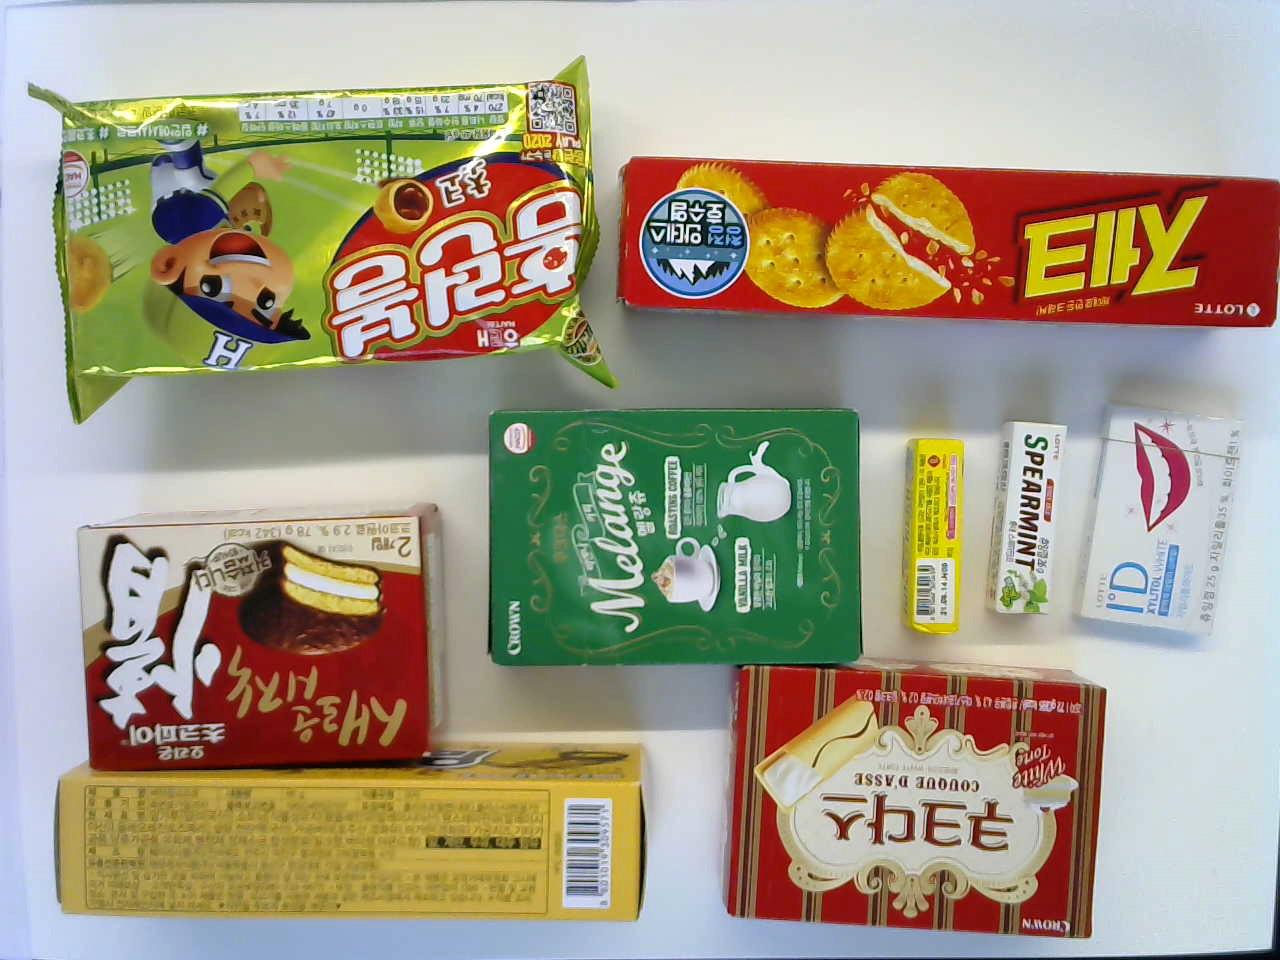ID_gum: (1074, 398, 1258, 638)
buttering: (56, 744, 660, 919)
chocopie: (76, 505, 441, 758)
couque_coffee: (479, 405, 864, 667)
couque_white: (710, 659, 1109, 938)
homerunball: (52, 61, 599, 405)
juicyfresh: (896, 436, 970, 635)
spearmint: (974, 416, 1069, 627)
zec: (615, 155, 1280, 332)
